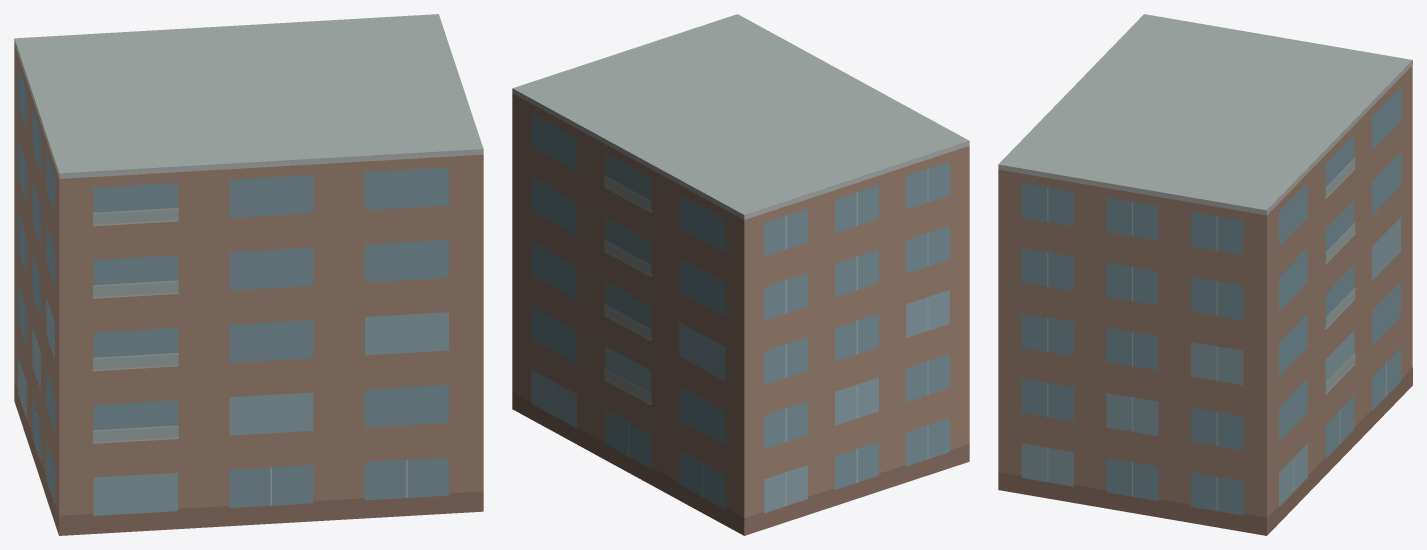
File: survey-upis-32946663.glb
3 views of the same model, side by side, from view 1: azimuth 30°, elevation 25°; view 2: azimuth 150°, elevation 25°; view 3: azimuth 270°, elevation 25° (orthographic). The views are drawn at different scales.
Visible parts, largest first — view 1: survey-upis-32946663.tmp; view 2: survey-upis-32946663.tmp; view 3: survey-upis-32946663.tmp.
Boxes of the visible parts, x1,y1,x2,y2 form: survey-upis-32946663.tmp: (14,14,483,535); survey-upis-32946663.tmp: (512,14,969,535); survey-upis-32946663.tmp: (998,14,1412,535).
Size of the model in its own units: 20.32 by 15.7 by 18.13.
